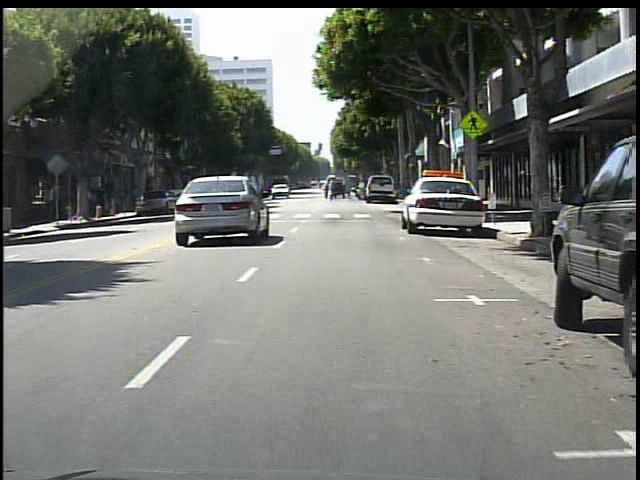person: (95, 184, 109, 219), (45, 182, 56, 219), (88, 186, 99, 217), (332, 177, 333, 199)
